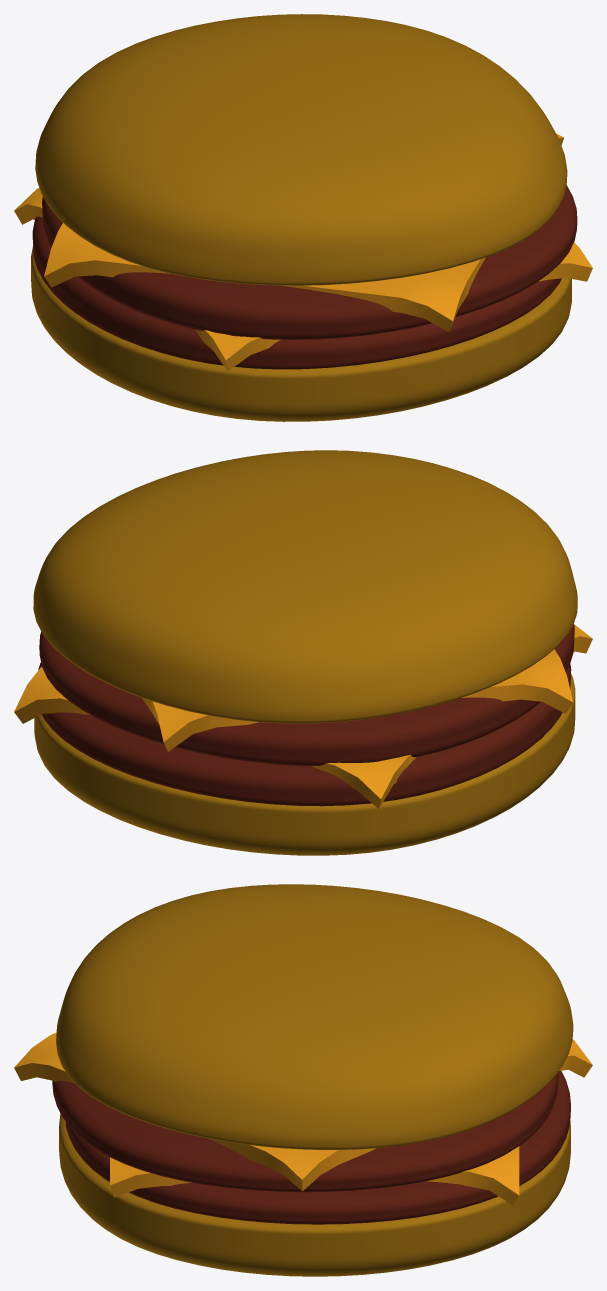
File: hamburger.glb
3 views of the same model, one above another, from view 1: azimuth 30°, elevation 25°; view 2: azimuth 150°, elevation 25°; view 3: azimuth 270°, elevation 25° (orthographic). The views are drawn at different scales.
Visible parts, largest first — view 1: Cube.003, Cube, Cube.002, Cube.001, Plane.001, Plane; view 2: Cube.003, Cube, Cube.002, Cube.001, Plane.001, Plane; view 3: Cube.003, Cube, Cube.002, Cube.001, Plane.001, Plane.
Boxes of the visible parts, box(x1,y1,x2,y2) form: Cube.003: box(35, 14, 567, 285); Cube: box(31, 247, 571, 421); Cube.002: box(42, 185, 577, 339); Cube.001: box(32, 216, 561, 369); Plane.001: box(44, 133, 563, 332); Plane: box(14, 188, 592, 371); Cube.003: box(33, 450, 577, 723); Cube: box(34, 674, 575, 855); Cube.002: box(39, 624, 574, 766); Cube.001: box(38, 662, 571, 806); Plane.001: box(142, 649, 573, 751); Plane: box(14, 624, 592, 808); Cube.003: box(56, 884, 573, 1149); Cube: box(59, 1113, 570, 1276); Cube.002: box(52, 1072, 558, 1192); Cube.001: box(65, 1071, 570, 1224); Plane.001: box(14, 1032, 592, 1191); Plane: box(110, 1146, 519, 1204).
Bounding box in the file's own units: 10.47 × 4.96 × 10.48.
